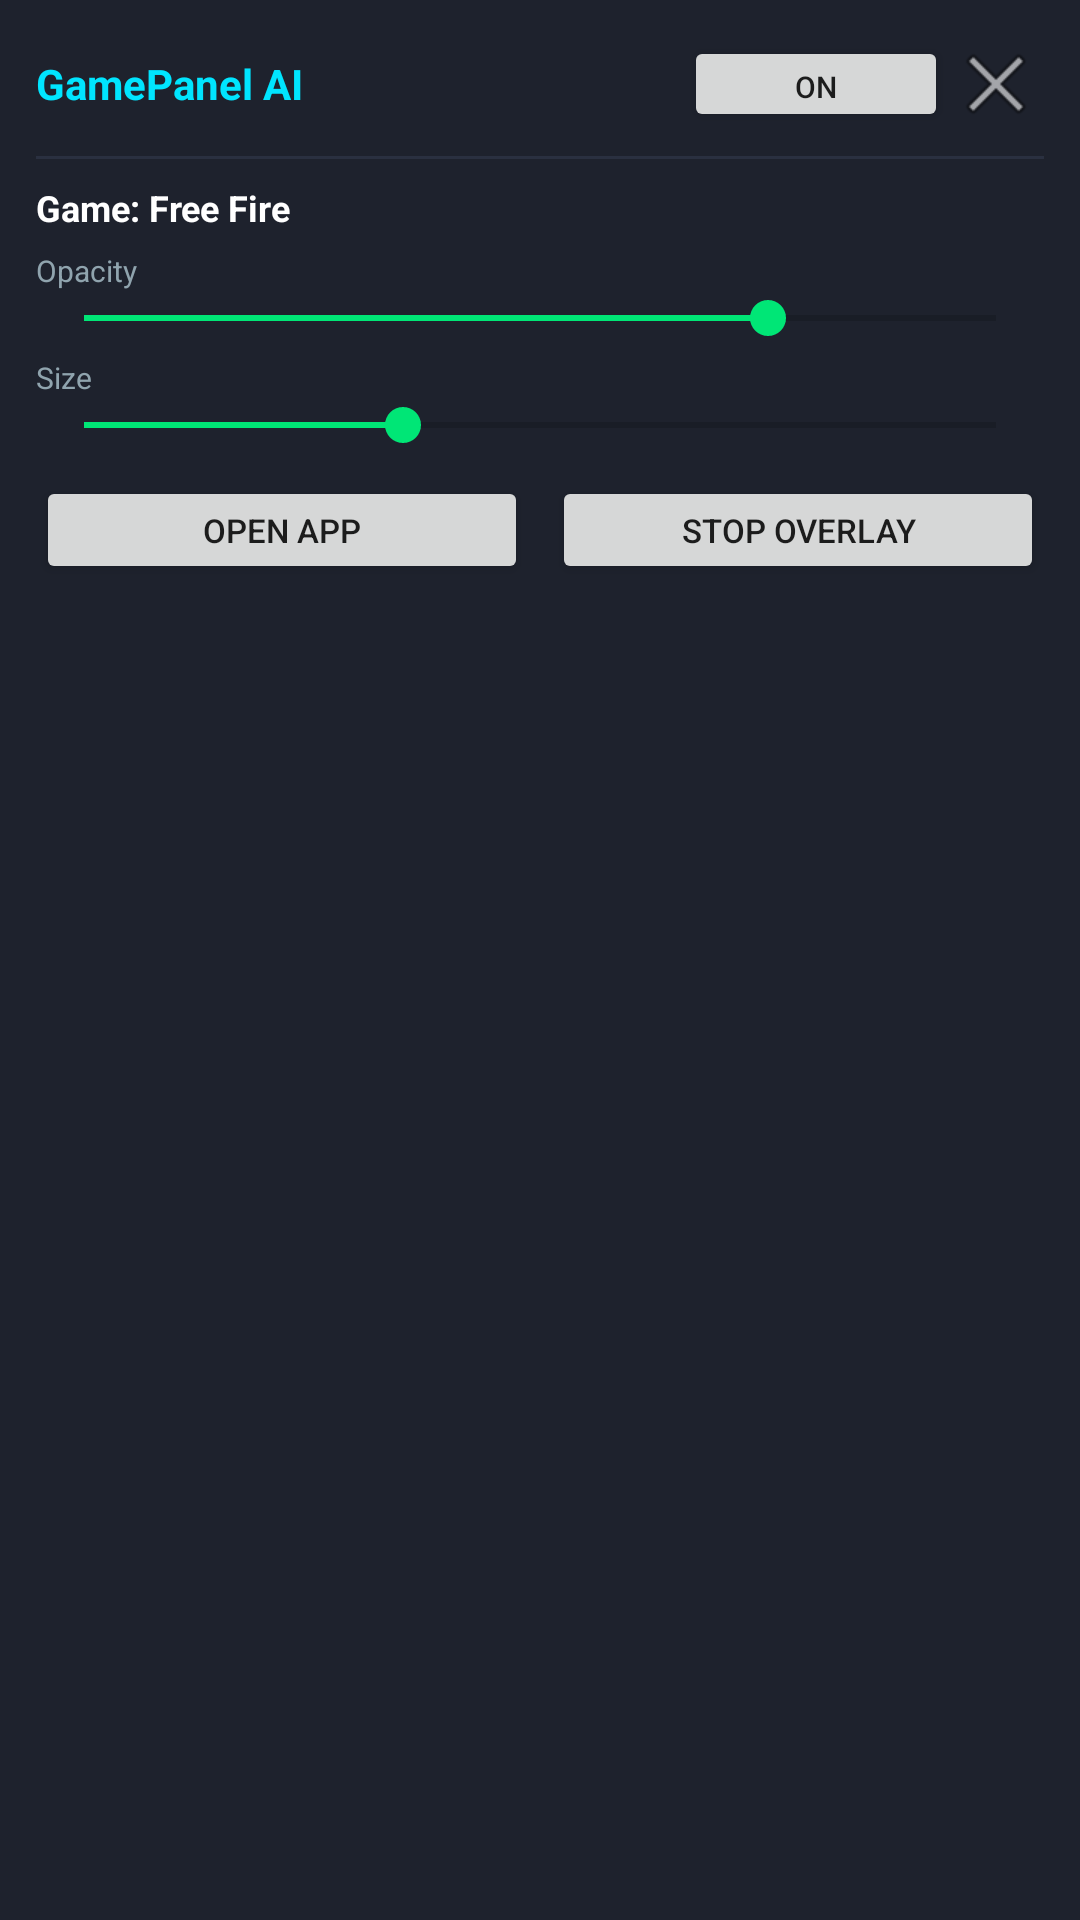

Icons on this 1080px×1920px Android screen, each with its box as rect(x1, y1, x2, y2):
Close Panel: rect(969, 57, 1023, 111)
